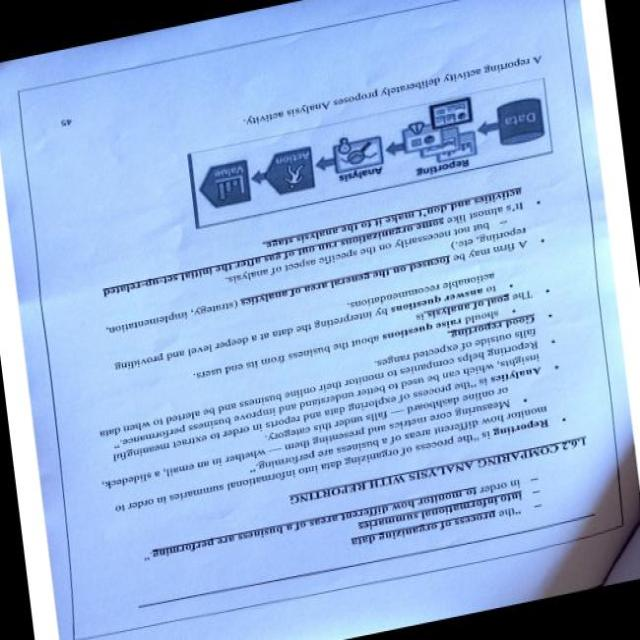Figure Detection - v3 Dataset Version2: (175, 69, 562, 238)
